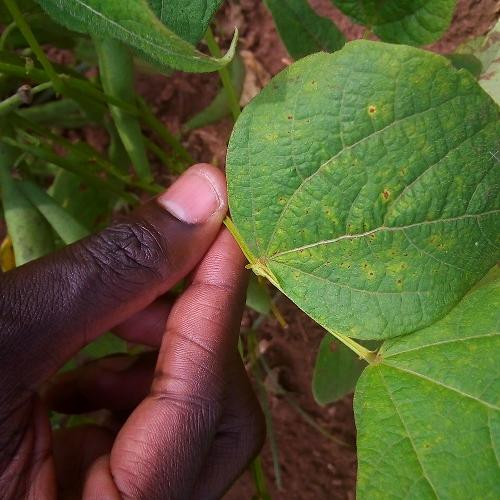mozaik: (258, 83, 500, 290)
